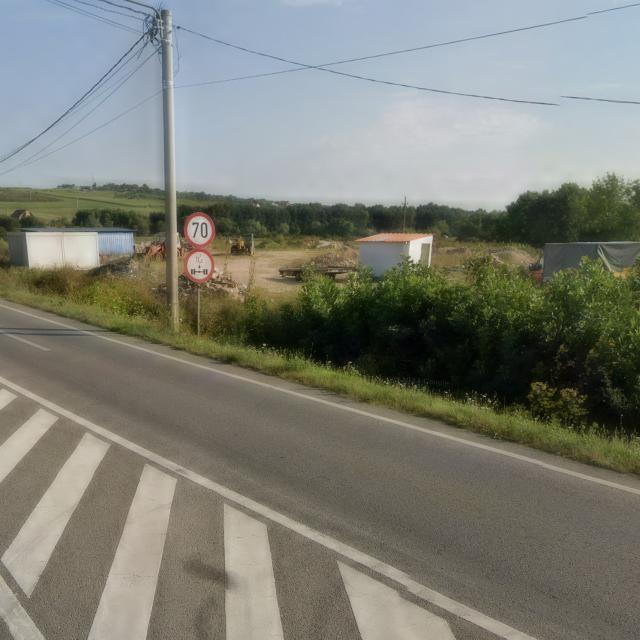forb_speed_over_70: (184, 212, 215, 247)
